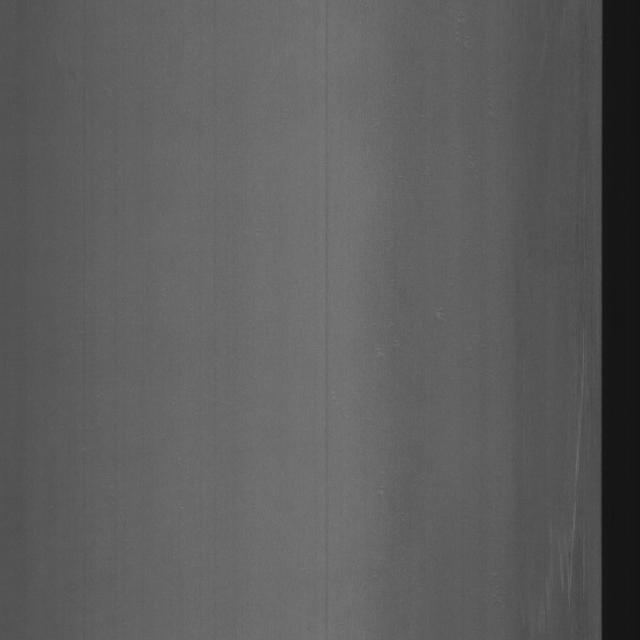inclusion: (563, 255, 596, 491), (540, 500, 588, 632)
